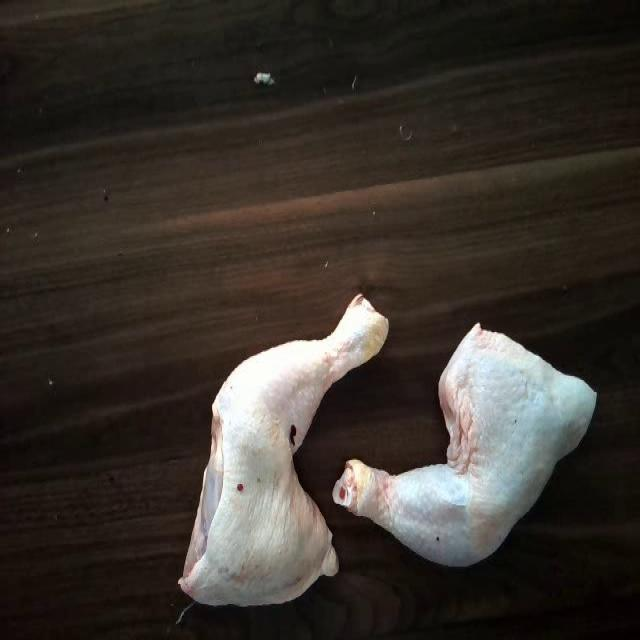quater: (340, 320, 604, 568), (189, 286, 378, 604)
